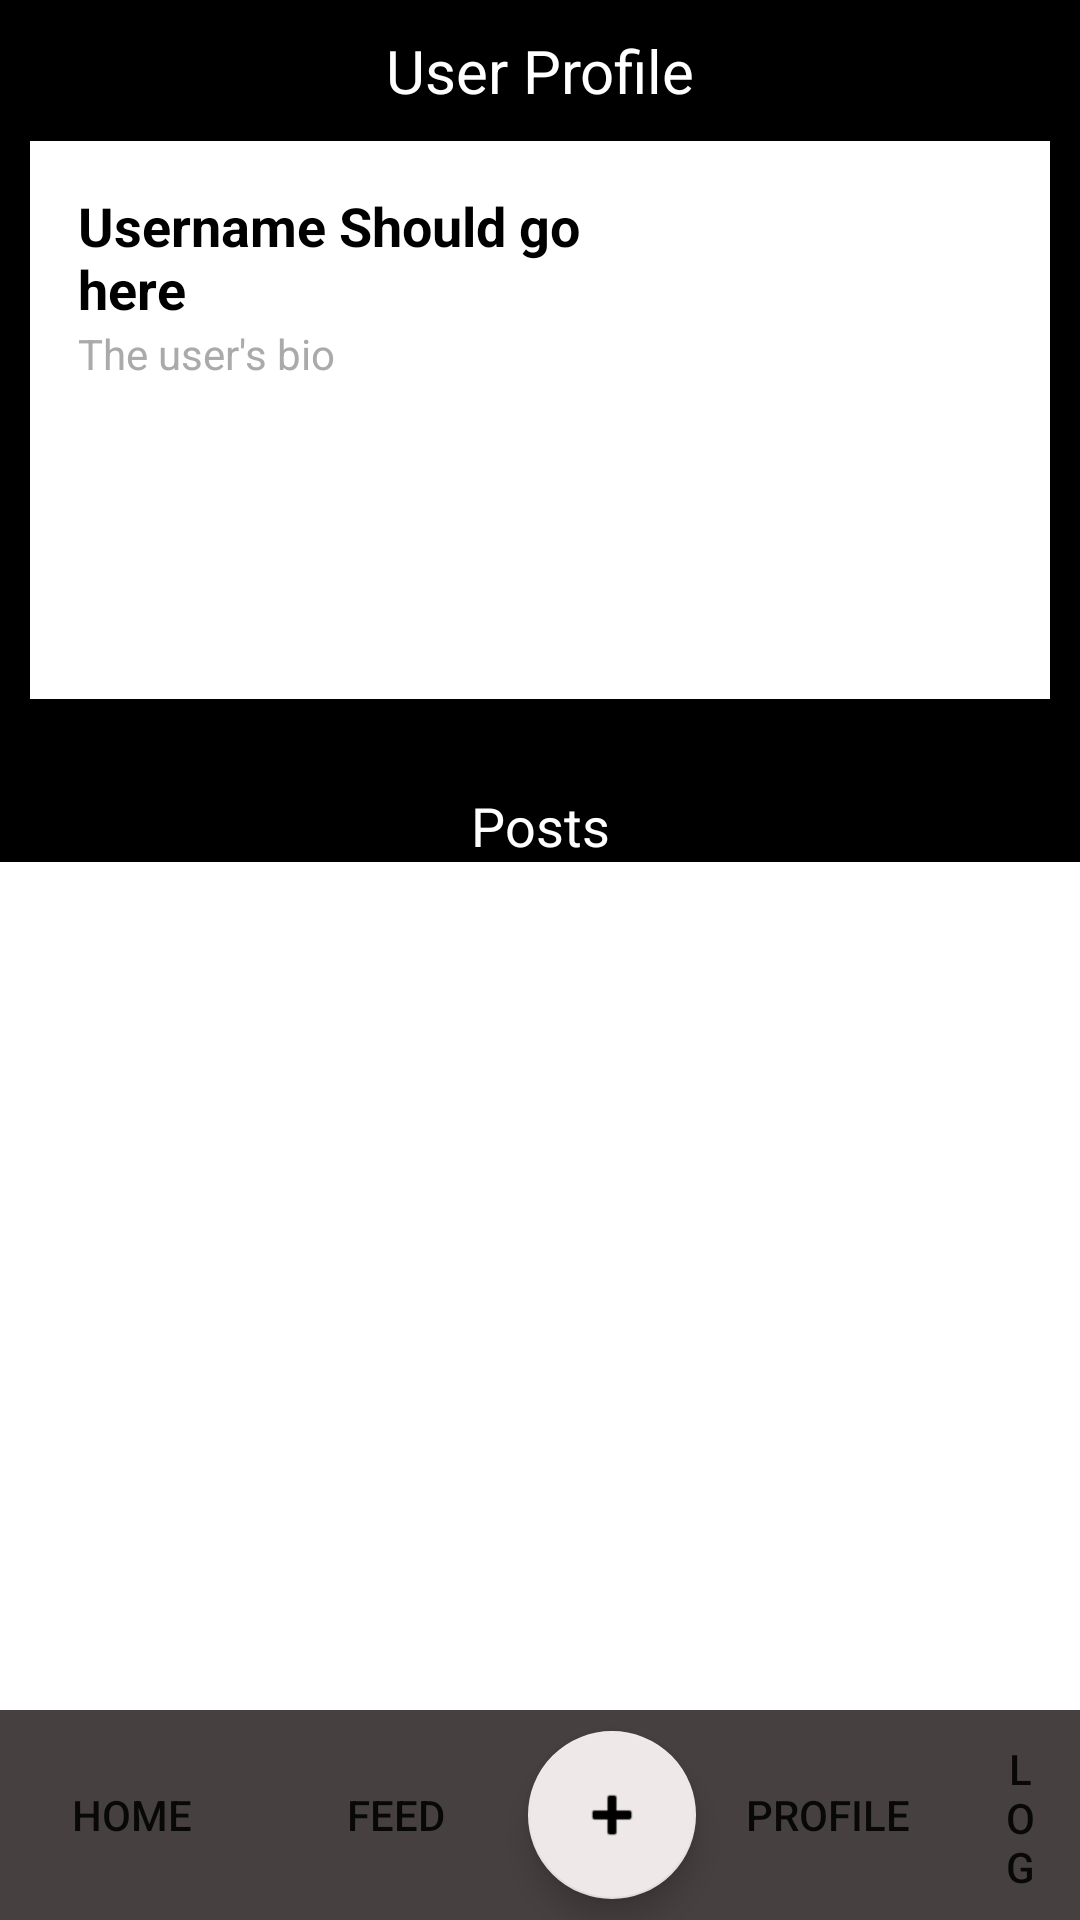

Point at icon controls on the screen. Image size 1080px×1920px, points as point (x, y).
add: point (612, 1815)
